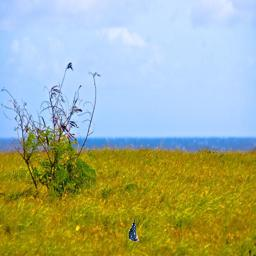Swallow: (129, 220, 139, 242)
